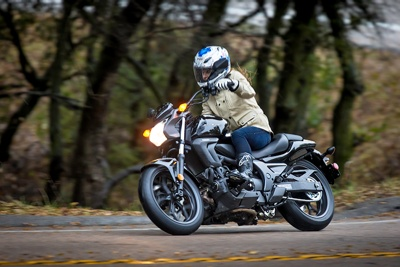helmet: (184, 40, 233, 95)
